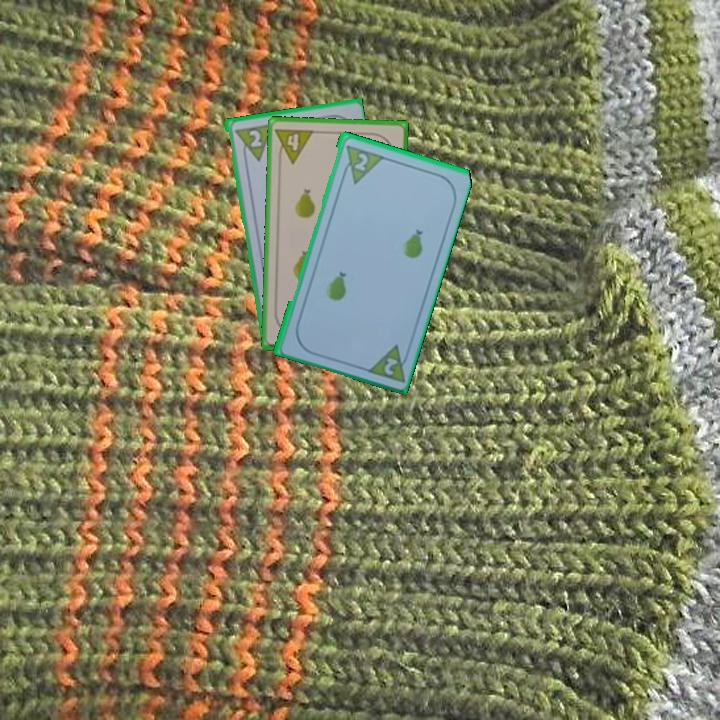2p: (350, 149, 371, 174), (380, 353, 400, 378), (245, 126, 264, 150)
4p: (272, 124, 316, 166)
